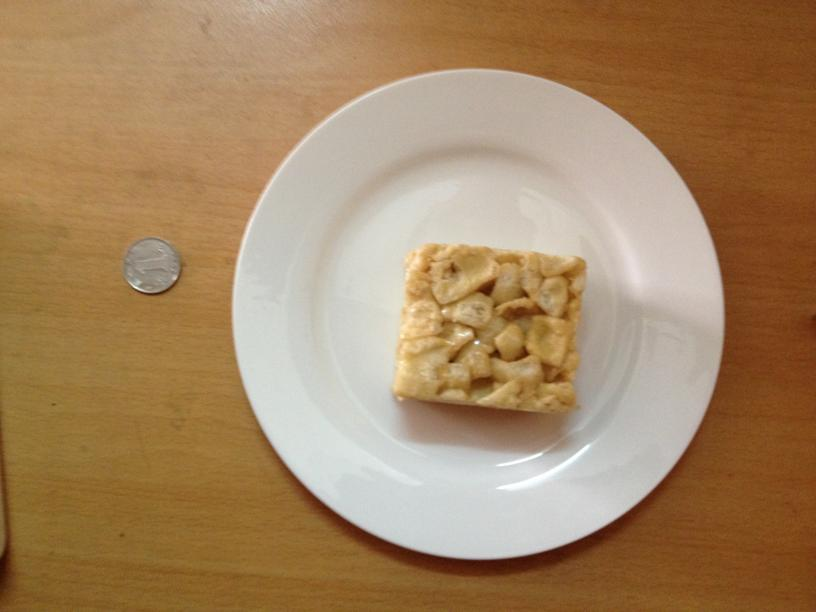coin: (125, 238, 180, 294)
sachima: (385, 245, 584, 414)
